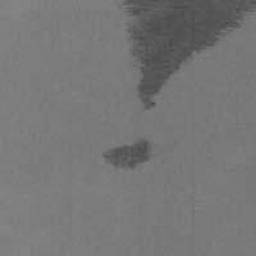Oil spot: (116, 0, 256, 113), (99, 134, 154, 173)
